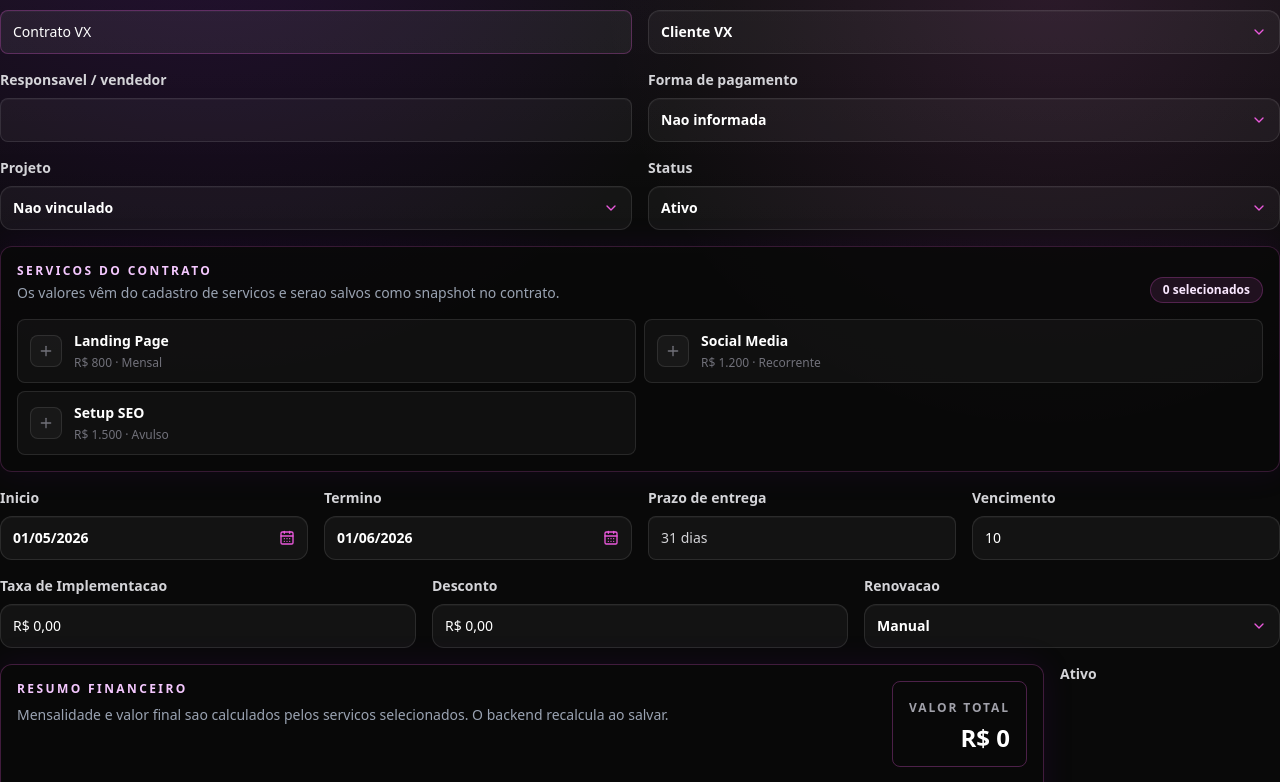
Test: ContractFormFields › blocks submission when discount is greater than gross contract value
Click the button "Landing Page R$ 800 · Mensal" at (46,351), box [17,319,636,383]
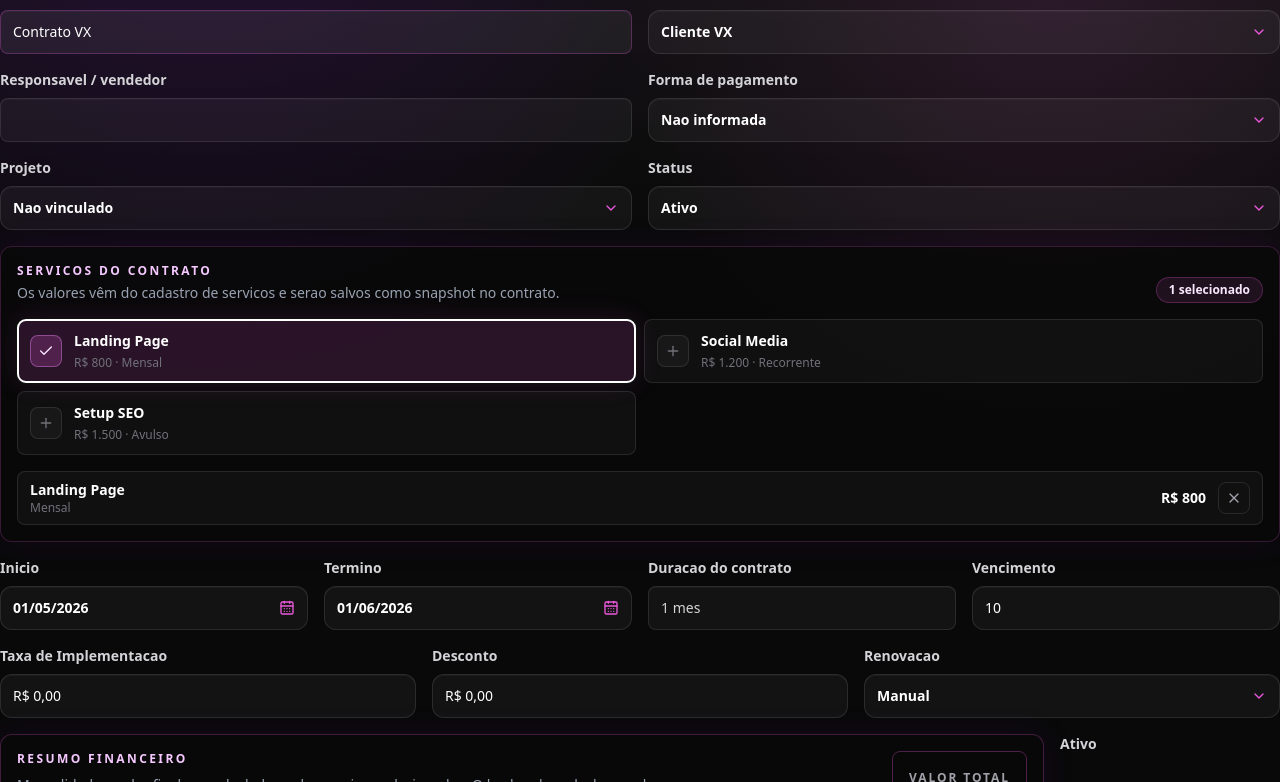
Replace the text in the field labelled "Desconto" with "90000" at (640,696), box [432,674,848,718]
(page scrolled)
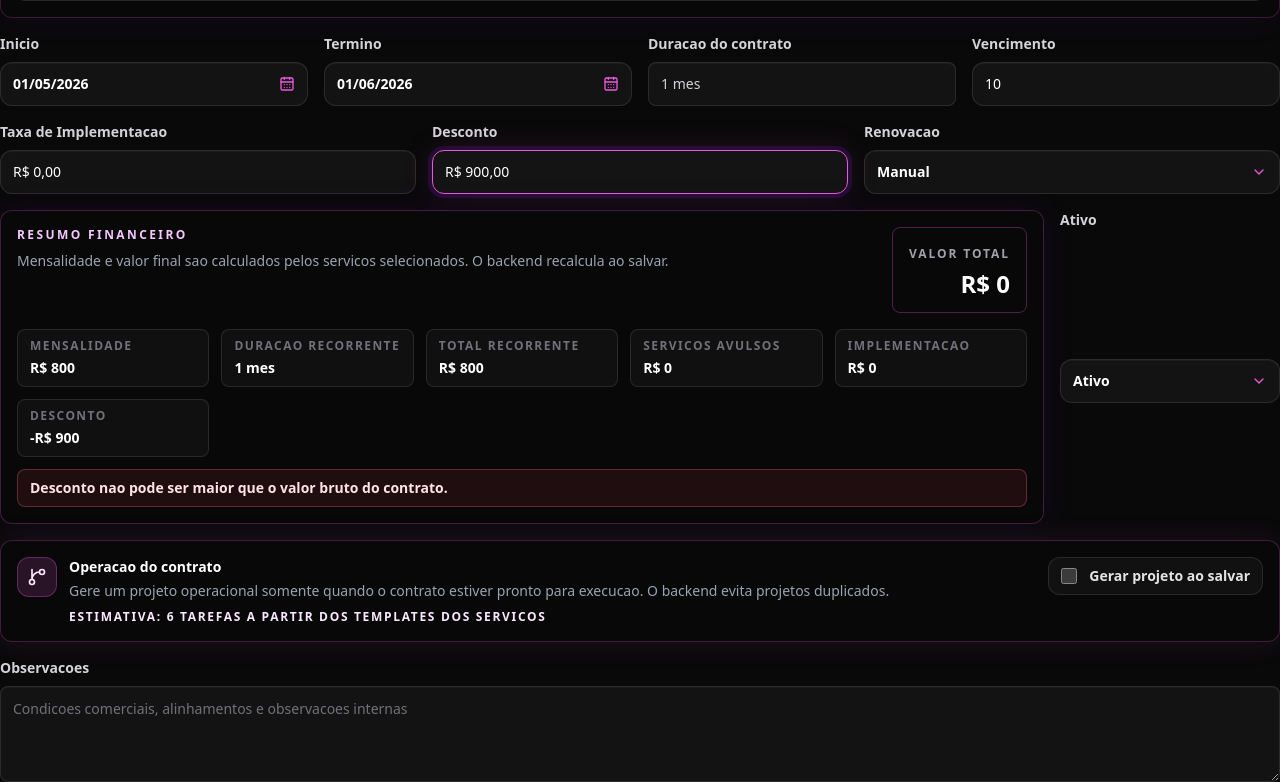
Expected: the element named "financialValidation" is empty, [0,210,1044,524]
Expected: the text "Desconto nao pode ser maior que o valor bruto do contrato." is shown, [17,469,1027,507]
